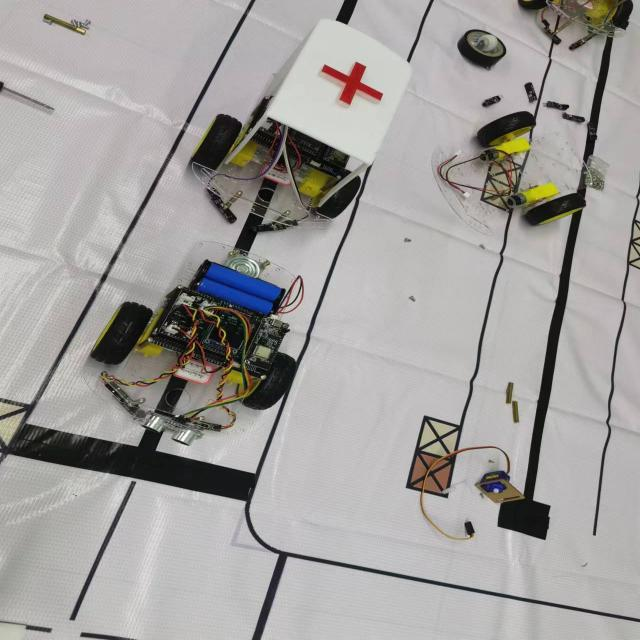RedCross: (315, 57, 386, 109)
